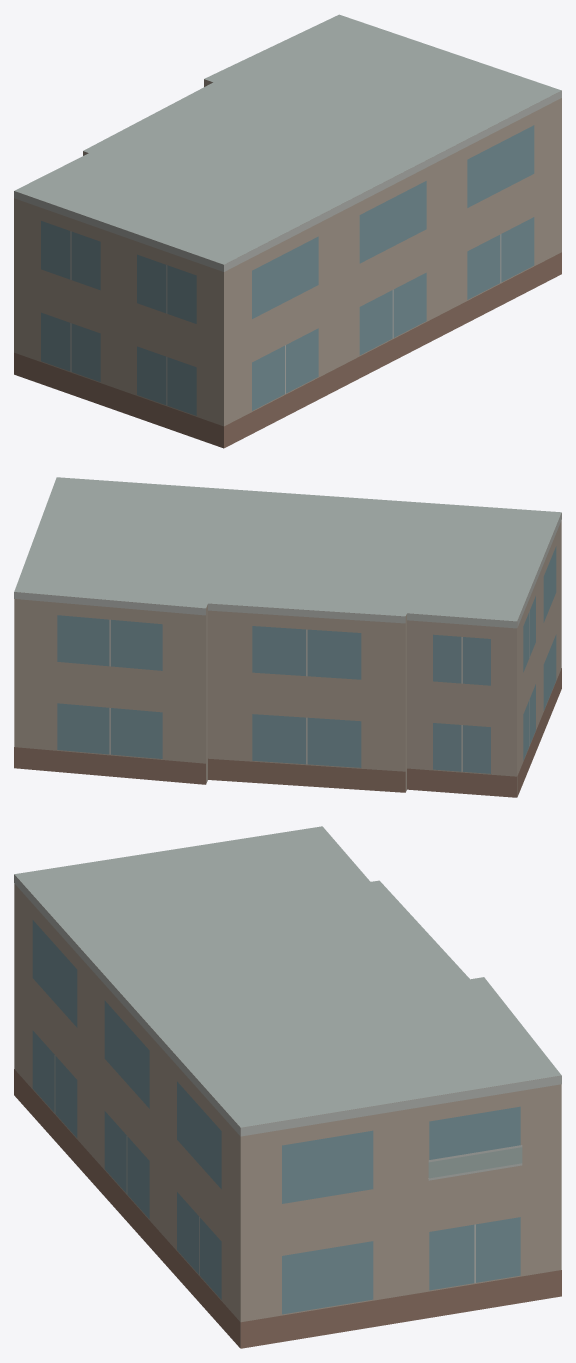
The model's file is survey-upis-32842312.glb.
3 views of the same model, one above another, from view 1: azimuth 30°, elevation 25°; view 2: azimuth 150°, elevation 25°; view 3: azimuth 270°, elevation 25° (orthographic). The views are drawn at different scales.
Parts seen in each view (by area): view 1: survey-upis-32842312.tmp; view 2: survey-upis-32842312.tmp; view 3: survey-upis-32842312.tmp.
Boxes of the visible parts, box(x1,y1,x2,y2) form: survey-upis-32842312.tmp: box(14, 14, 561, 448); survey-upis-32842312.tmp: box(14, 477, 561, 797); survey-upis-32842312.tmp: box(14, 826, 561, 1348).
Bounding box in the file's own units: 17.87 × 6.1 × 13.71.
